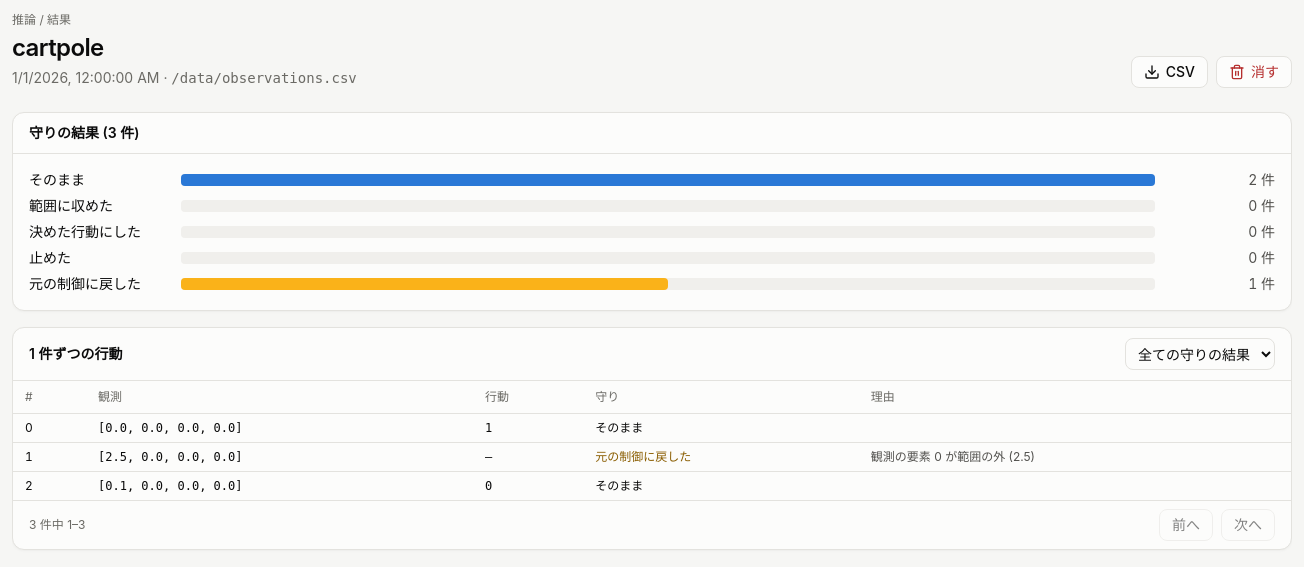
Test: 方策の結果の画面 › 守りの結果ごとの件数と 1 件ずつの表を出し, 守りの結果で絞る
Expected: the list items read "そのまま2 件", "範囲に収めた0 件", "決めた行動にした0 件", "止めた0 件", "元の制御に戻した1 件", in this order, [29,170,1275,190]; [29,196,1275,216]; [29,222,1275,242]; [29,248,1275,268]; [29,274,1275,294]
Expected: the number of rows is 4, [13,381,1291,414]; [13,414,1291,442]; [13,442,1291,472]; [13,472,1291,500]
Select "元の制御に戻した" in the dropdown named "守りの結果で絞る" at (1200, 354), box [1125,338,1275,370]
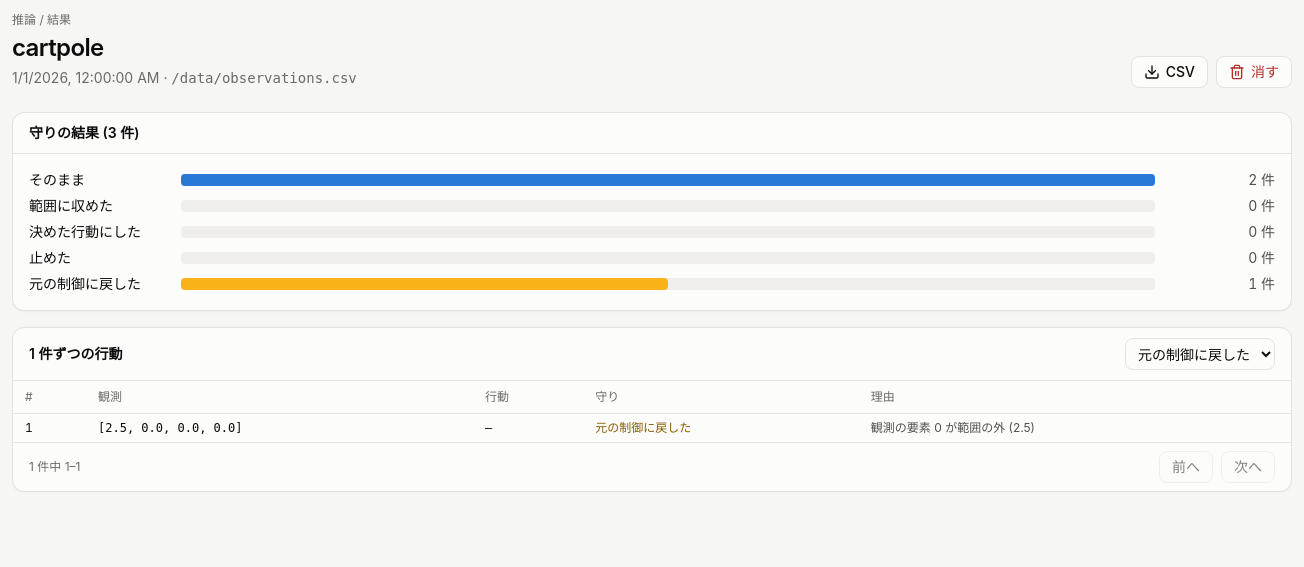
Expected: the text "1 件中 1–1" is shown, [29,459,80,475]
